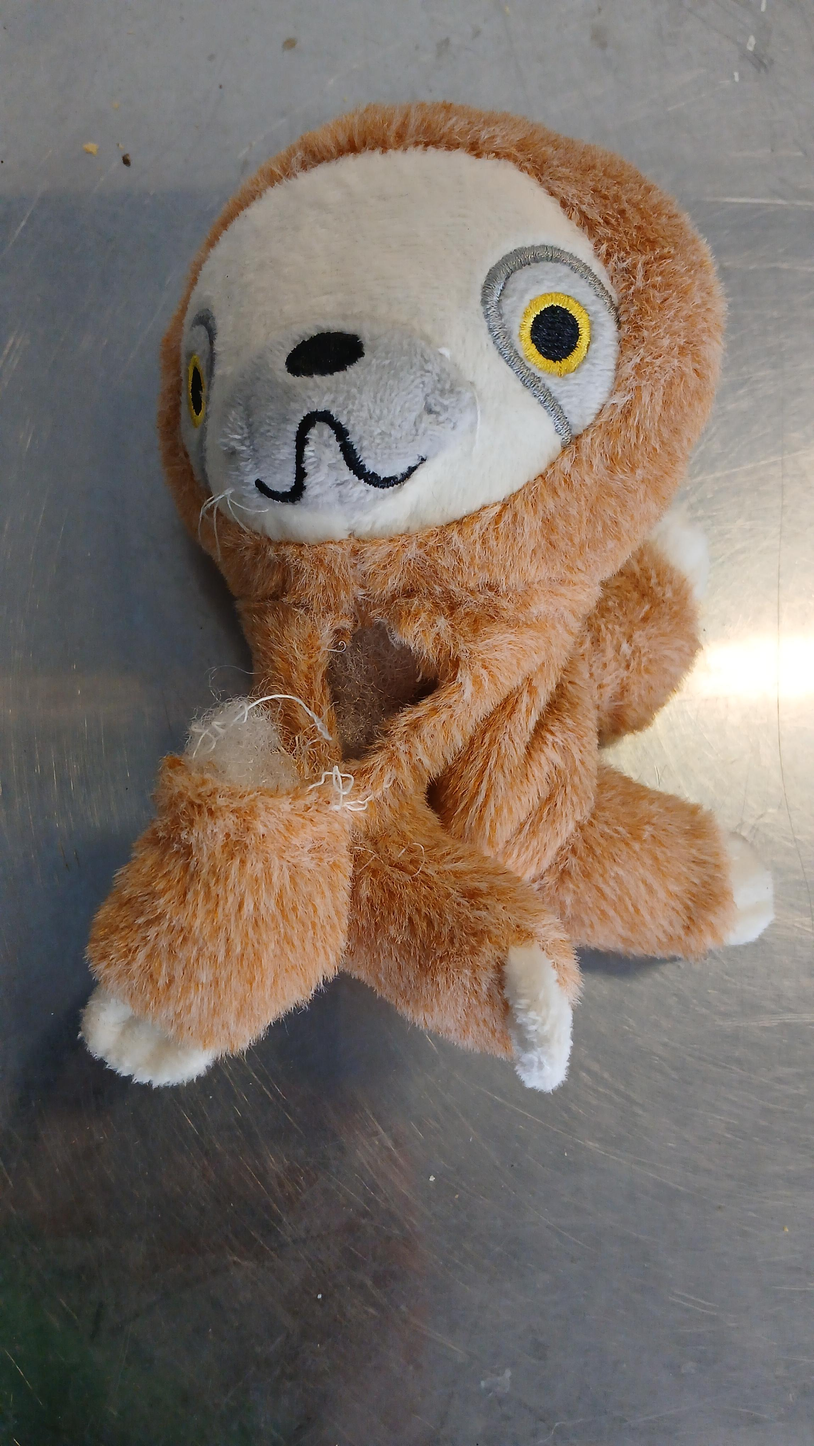Ordinario: (81, 103, 771, 1095)
